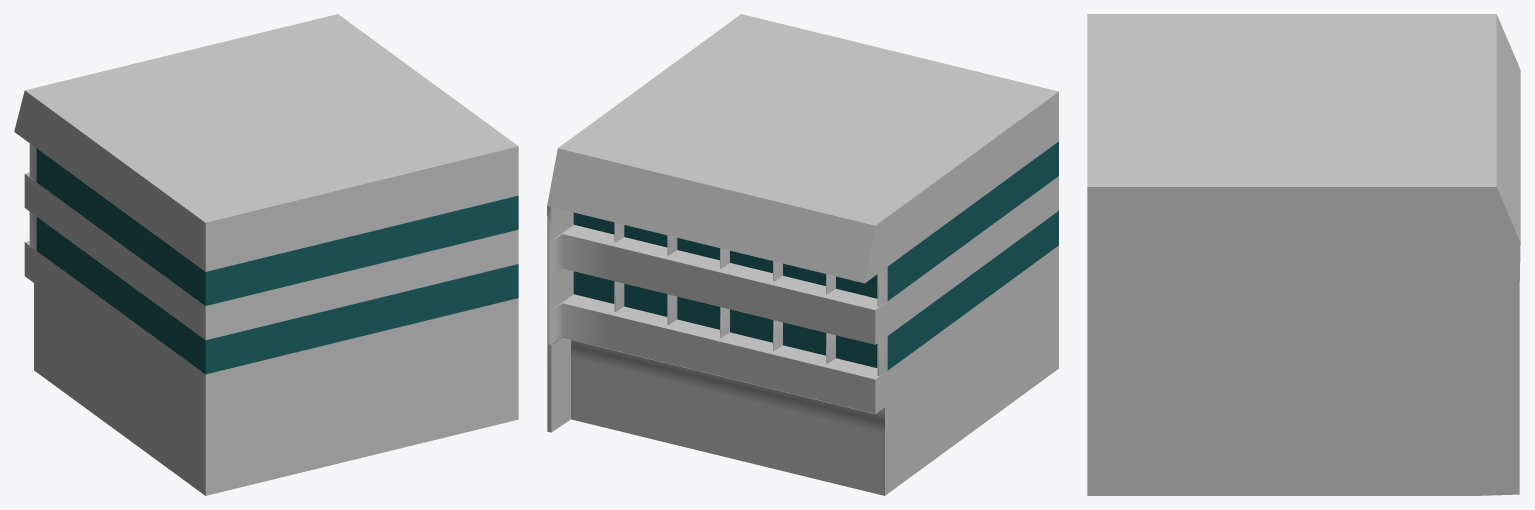
Rendered from Terminal_Corner2.fbx.
3 views of the same model, side by side, from view 1: azimuth 30°, elevation 25°; view 2: azimuth 150°, elevation 25°; view 3: azimuth 270°, elevation 25° (orthographic). The views are drawn at different scales.
Parts seen in each view (by area): view 1: Terminal_Corner2; view 2: Terminal_Corner2; view 3: Terminal_Corner2.
Part boxes in pixels (<box>): Terminal_Corner2: <box>14,14,518,495</box>; Terminal_Corner2: <box>547,14,1058,495</box>; Terminal_Corner2: <box>1087,14,1520,495</box>.
Bounding box in the file's own units: 90 × 75 × 95.25.
